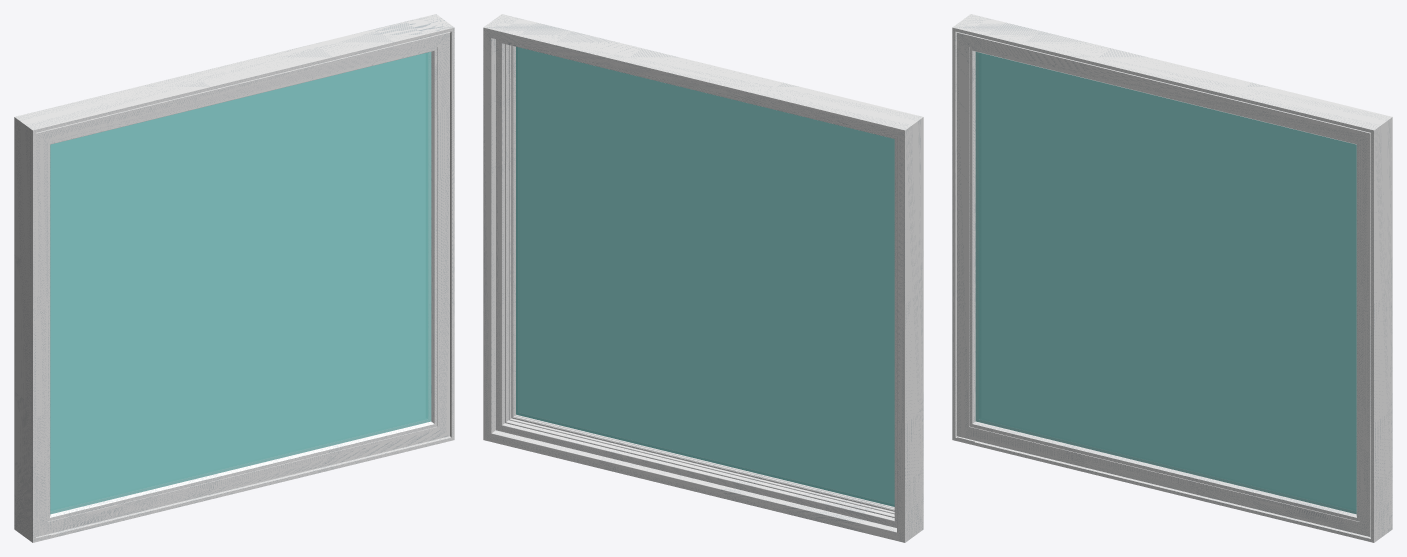
3 views of the same model, side by side, from view 1: azimuth 30°, elevation 25°; view 2: azimuth 150°, elevation 25°; view 3: azimuth 330°, elevation 25° (orthographic).
Visible parts, largest first — view 1: SketchUp.606, SketchUp.607, SketchUp.605; view 2: SketchUp.607, SketchUp.606, SketchUp.605, SketchUp.608; view 3: SketchUp.606, SketchUp.607, SketchUp.605.
Part boxes in pixels (left/top/right/bottom): SketchUp.606: left=50, top=52, right=431, bottom=514; SketchUp.607: left=51, top=53, right=427, bottom=510; SketchUp.605: left=14, top=14, right=454, bottom=542; SketchUp.607: left=516, top=46, right=894, bottom=506; SketchUp.606: left=519, top=48, right=893, bottom=502; SketchUp.605: left=483, top=14, right=923, bottom=542; SketchUp.608: left=516, top=47, right=893, bottom=505; SketchUp.606: left=975, top=52, right=1356, bottom=514; SketchUp.607: left=979, top=53, right=1355, bottom=510; SketchUp.605: left=952, top=14, right=1392, bottom=542.
Bounding box in the file's own units: 1.52 × 0.1159 × 1.42.
